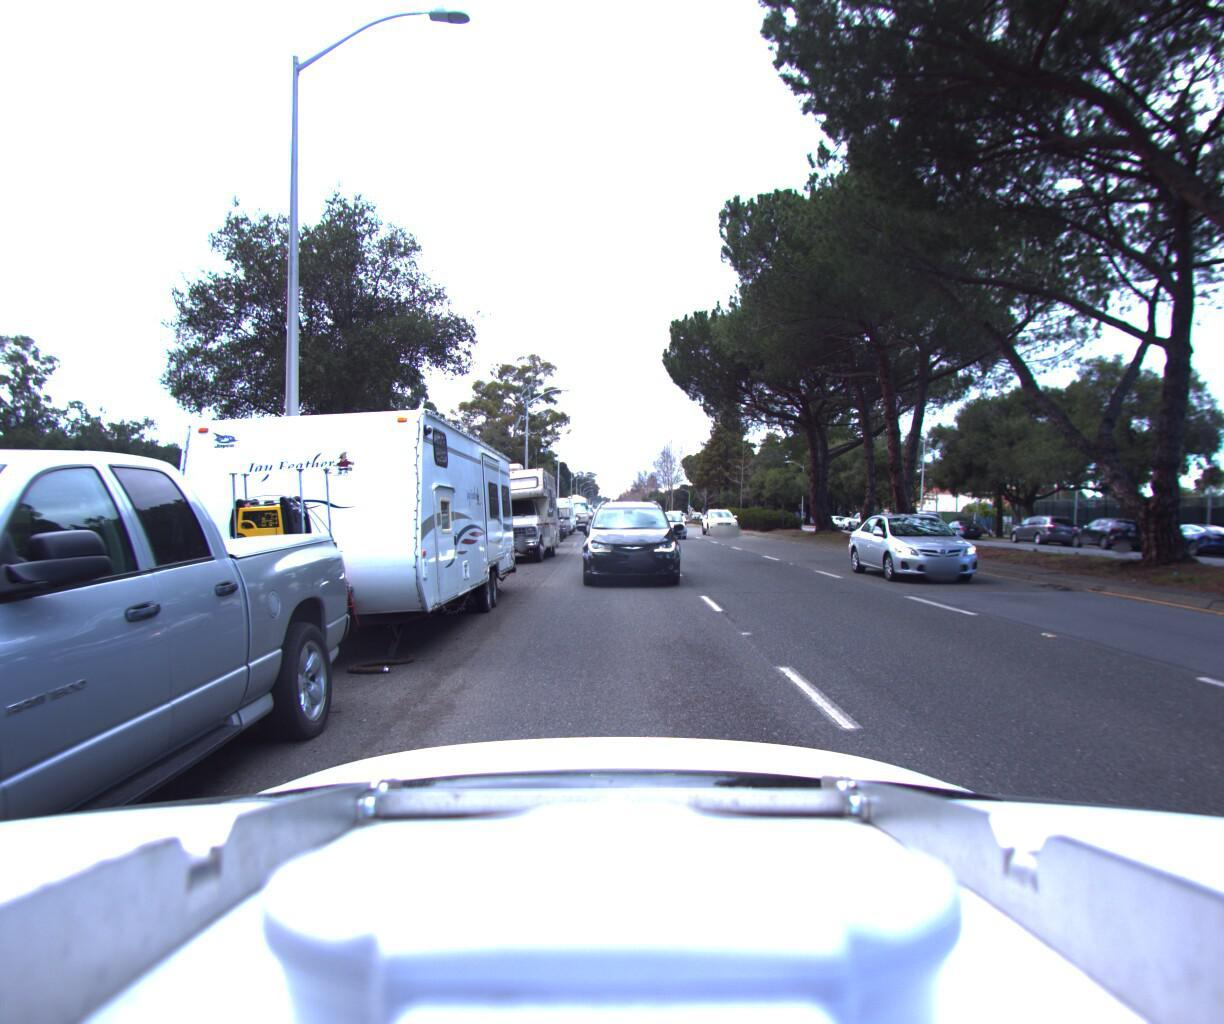car: (856, 507, 1015, 589), (583, 493, 677, 587), (1135, 519, 1224, 559), (1061, 514, 1146, 548), (1002, 513, 1078, 545), (654, 507, 694, 539), (702, 505, 742, 535), (931, 515, 982, 537), (840, 506, 876, 528)
other_vehicle: (78, 345, 528, 700), (451, 451, 558, 566), (525, 492, 574, 535)
